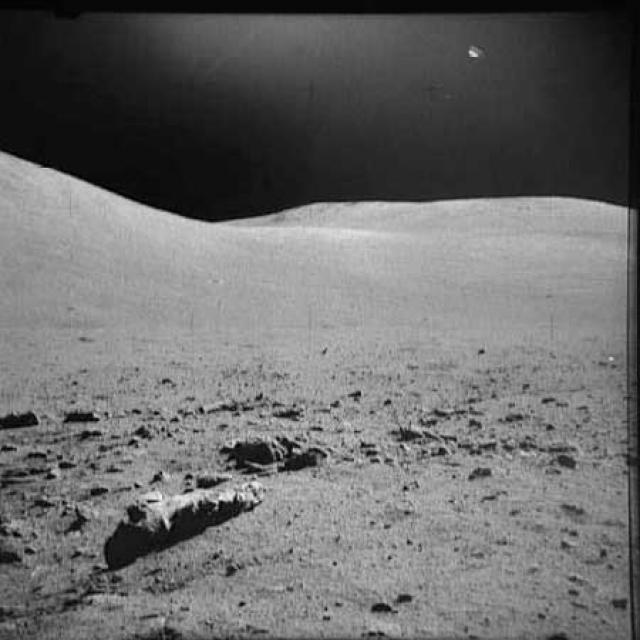rock: (98, 463, 274, 556), (226, 421, 330, 475), (56, 396, 110, 429), (545, 431, 585, 470), (389, 411, 428, 443), (0, 402, 42, 430)
